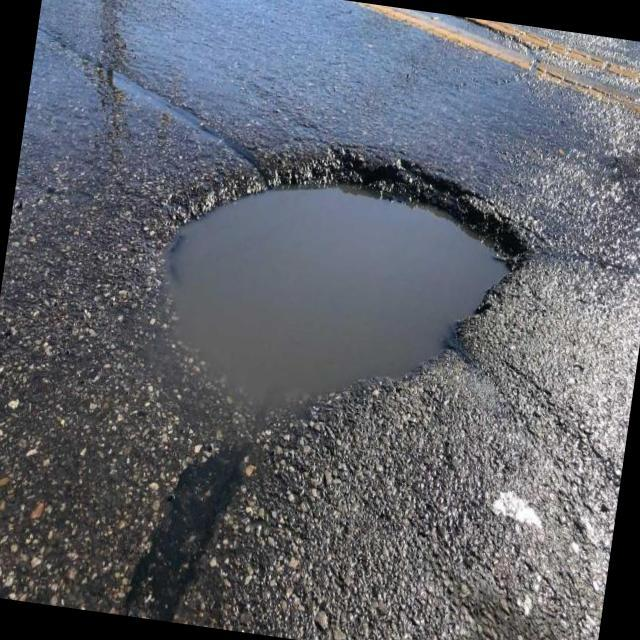Pothole: (154, 151, 525, 419)
